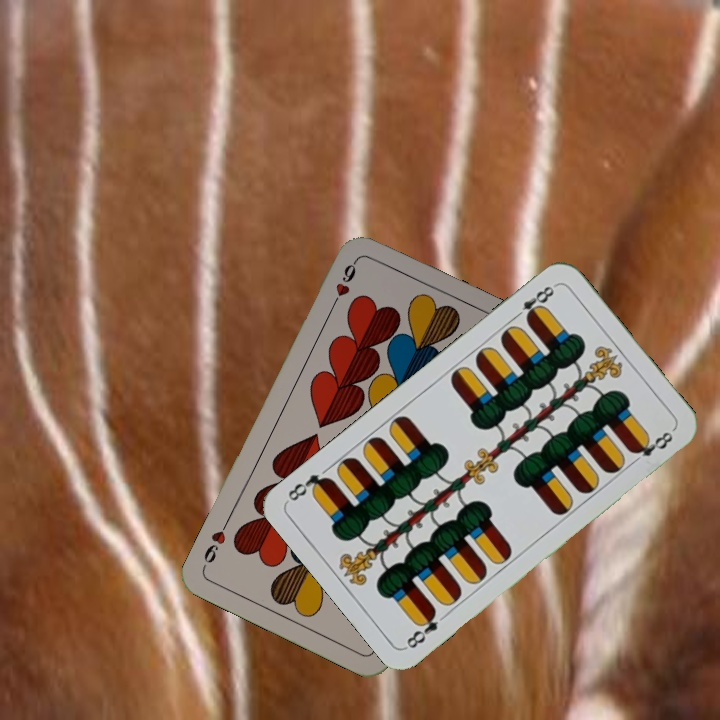E8: (509, 280, 559, 325), (402, 605, 441, 651)
H9: (327, 255, 361, 311)
